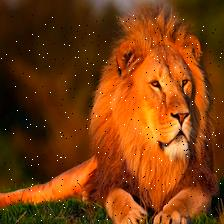Lion: (0, 16, 224, 222)
